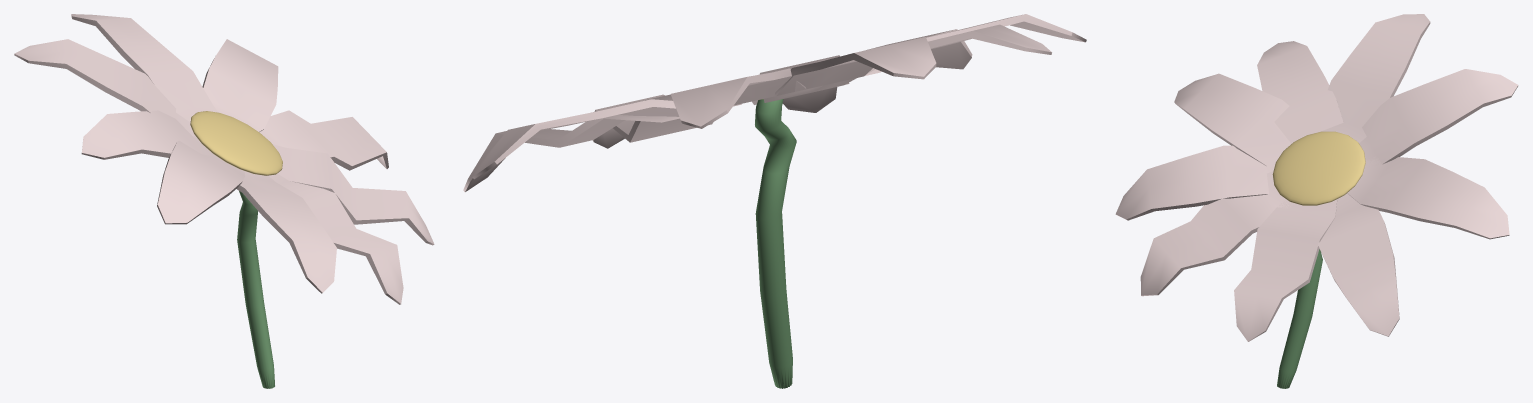
Rendered from apple blossom.fbx.
The picture shows the model from 3 angles, left to right: view 1: azimuth 30°, elevation 25°; view 2: azimuth 150°, elevation 25°; view 3: azimuth 270°, elevation 25°; orthographic projection. The views are drawn at different scales.
Parts seen in each view (by area): view 1: pCube4, pCube2, pCube8, pCube7, pCube9, pCube5, pCube3, pCube6, pCube1, pSphere1, pCylinder2; view 2: pCylinder2, pCube7, pCube8, pCube9, pCube1, pCube6, pCube2, pCube5, pCube3, pCube4; view 3: pCube9, pCube2, pCube8, pCube1, pCube3, pCube4, pCube7, pCube5, pCube6, pSphere1, pCylinder2.
Part boxes in pixels (<box>): pCube4: <box>237,171,336,293</box>; pCube2: <box>272,144,434,245</box>; pCube8: <box>71,14,218,122</box>; pCube7: <box>14,39,195,137</box>; pCube9: <box>202,39,278,131</box>; pCube5: <box>157,136,245,224</box>; pCube3: <box>249,173,403,304</box>; pCube6: <box>81,110,211,159</box>; pCube1: <box>259,110,388,170</box>; pSphere1: <box>190,111,282,175</box>; pCylinder2: <box>237,191,274,388</box>; pCylinder2: <box>755,99,796,388</box>; pCube7: <box>774,37,936,96</box>; pCube8: <box>670,68,806,128</box>; pCube9: <box>472,99,679,179</box>; pCube1: <box>463,104,741,191</box>; pCube6: <box>763,24,1051,102</box>; pCube2: <box>593,94,713,148</box>; pCube5: <box>867,14,1086,73</box>; pCube3: <box>752,55,849,112</box>; pCube4: <box>817,29,972,75</box>; pCube9: <box>1347,156,1509,239</box>; pCube2: <box>1234,199,1337,341</box>; pCube8: <box>1359,69,1518,167</box>; pCube1: <box>1317,193,1399,336</box>; pCube3: <box>1140,171,1294,296</box>; pCube4: <box>1115,145,1288,220</box>; pCube7: <box>1320,14,1430,143</box>; pCube5: <box>1174,73,1294,167</box>; pCube6: <box>1257,41,1343,142</box>; pSphere1: <box>1272,131,1365,205</box>; pCylinder2: <box>1277,249,1322,388</box>.
Bounding box in the file's own units: 3.52 × 3 × 3.69.
